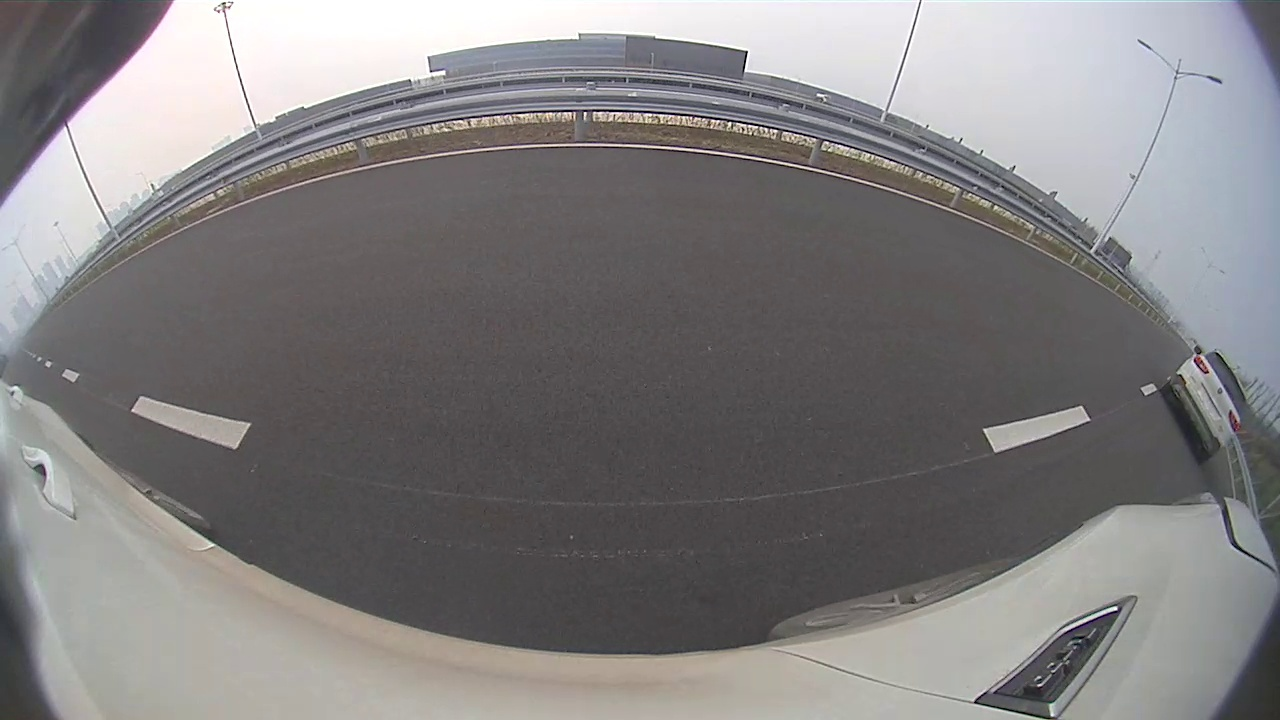car: (657, 64, 956, 272)
front: (656, 176, 682, 226)
rear: (711, 181, 759, 272)
